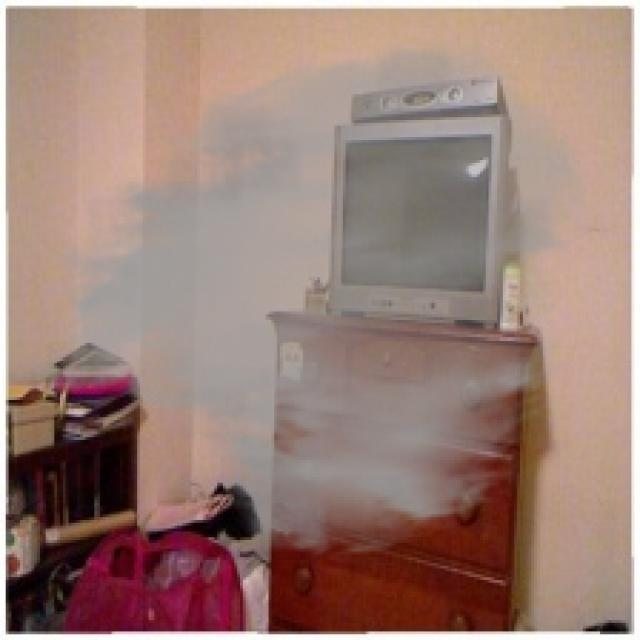smoke: (34, 34, 592, 560)
